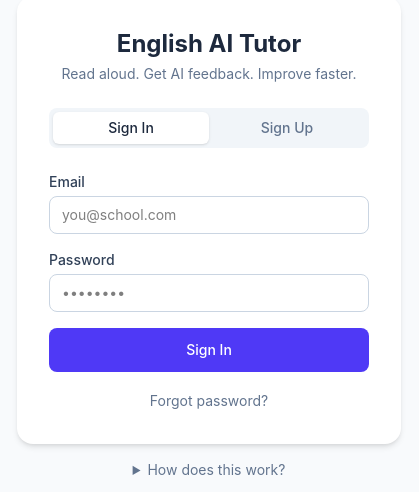
it: LoginPage — forgot password › clicking Forgot password shows the forgot password form
Click the button "Forgot password?": (209, 401) [49,391,369,411]
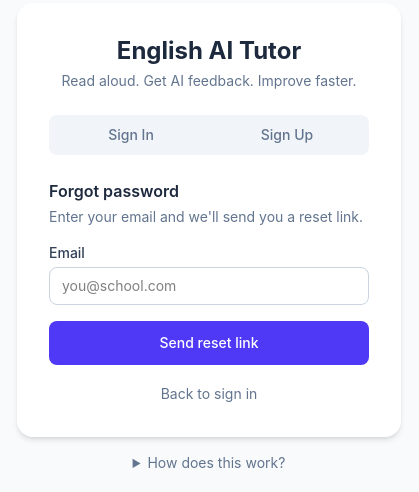
expect the heading "Forgot password" is shown: met, box [49,181,179,201]
expect the field labelled "Email" is shown: met, box [49,267,369,305]
expect the button "Send reset link" is shown: met, box [49,321,369,365]
